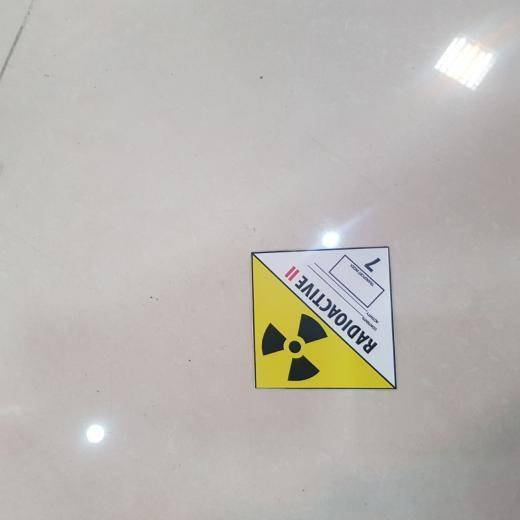radioactive: (253, 247, 394, 389)
